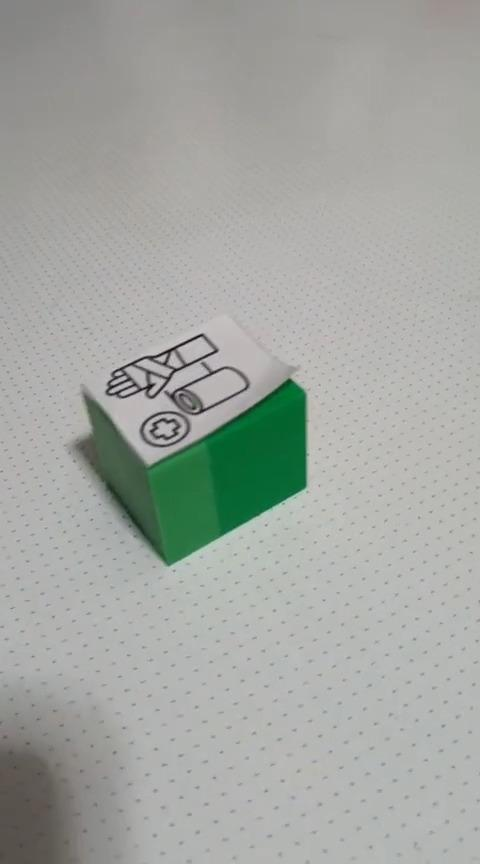Bandages: (78, 312, 308, 566)
